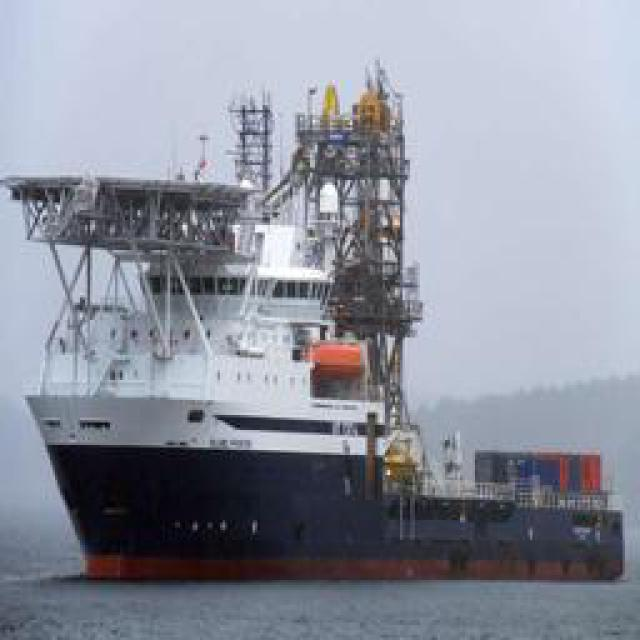Ship: (26, 51, 634, 600)
